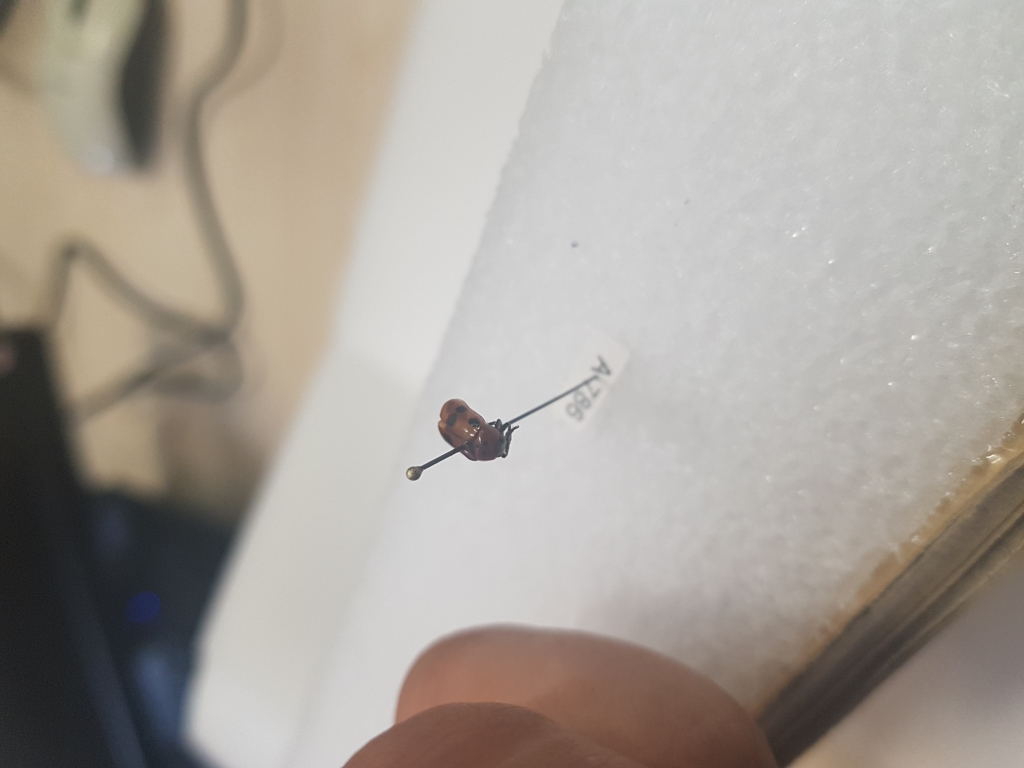Clytra_novempunctata: (434, 392, 517, 465)
